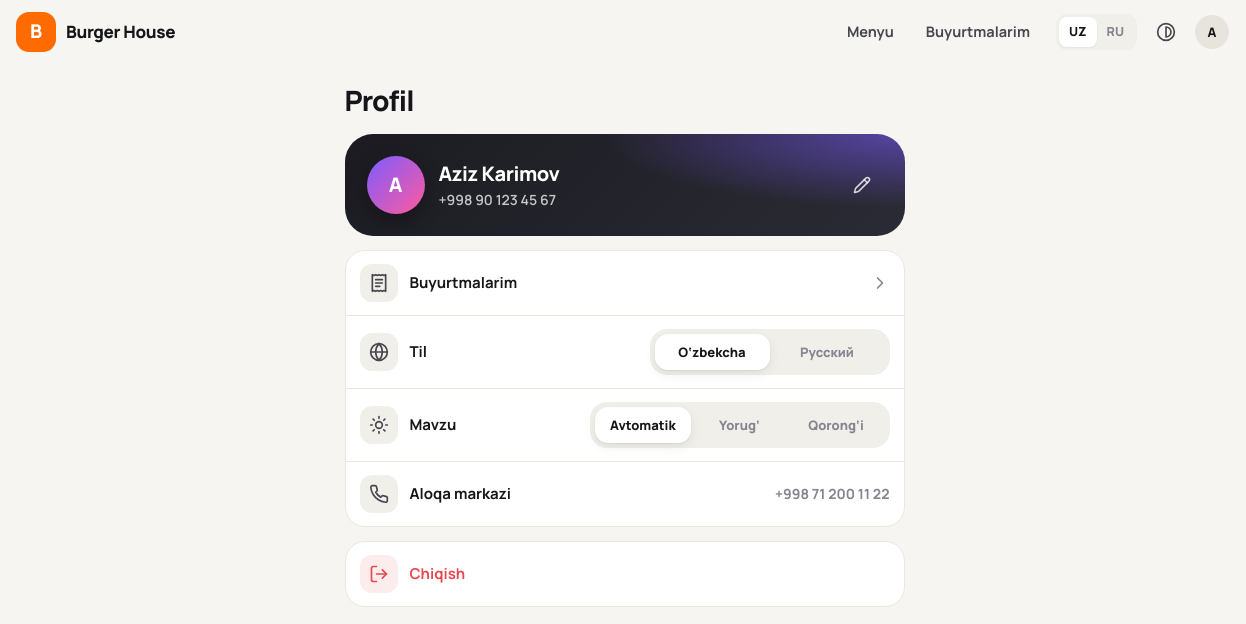
Test case: languages › saves the language on the account when signed in
Expected: the heading "Aziz Karimov" is shown, [438,160,559,187]
Click the radio button labelled "Русский" at (827, 352), box [800,343,854,361]
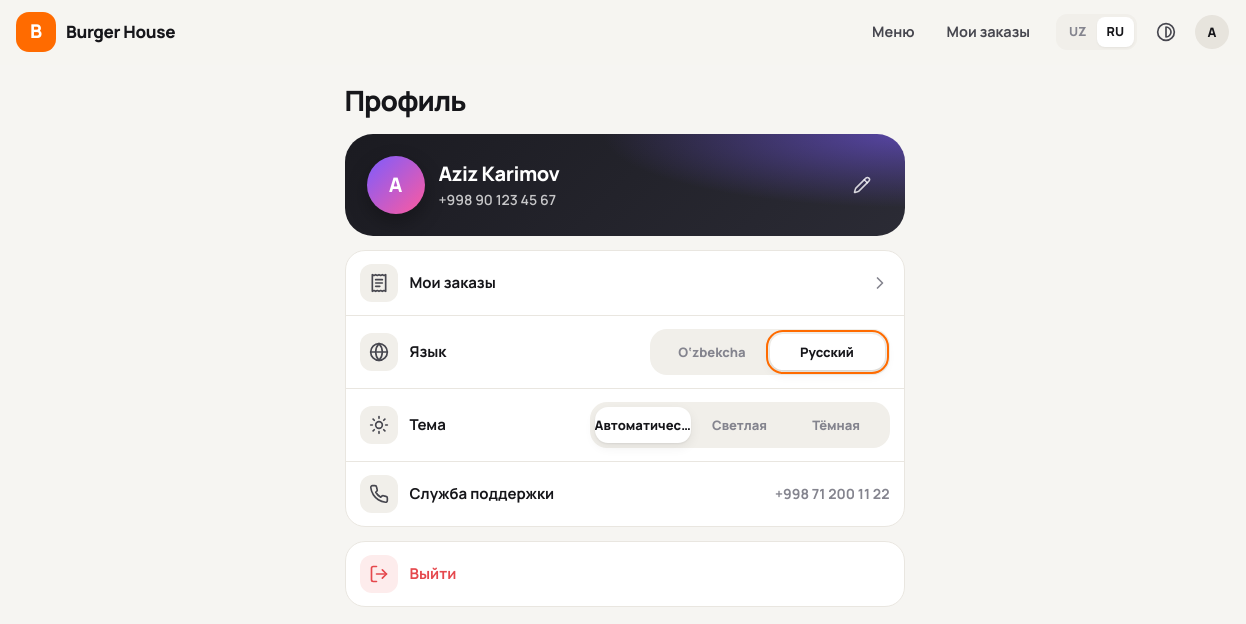
Expected: the heading "Профиль" is shown, [344,83,466,118]
